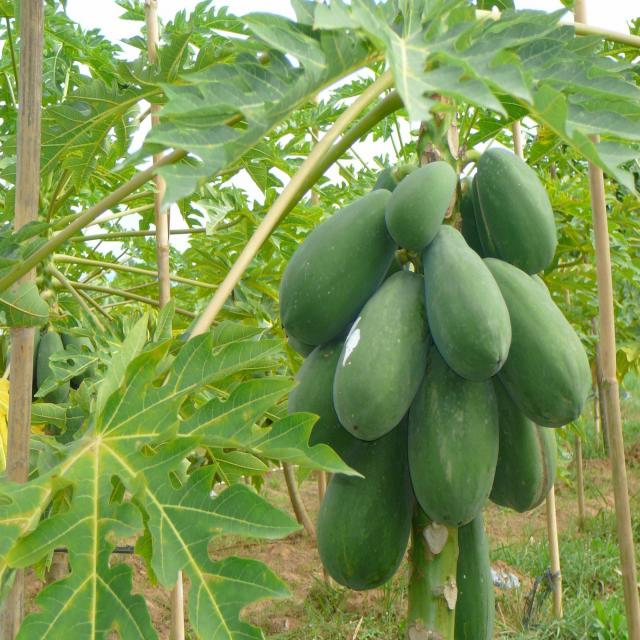Pepaya unrippen: (274, 180, 394, 340), (338, 275, 432, 425), (324, 442, 414, 588), (508, 271, 589, 430), (430, 242, 517, 385), (410, 390, 496, 530), (472, 138, 559, 264), (388, 163, 457, 252)
